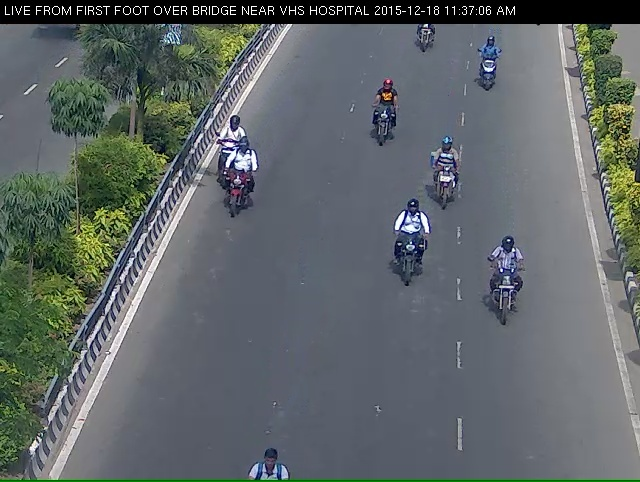Person: (369, 219, 439, 315), (472, 245, 528, 355), (358, 83, 401, 160), (425, 147, 466, 222), (222, 168, 256, 241), (475, 42, 512, 109), (201, 138, 238, 197), (410, 22, 443, 62)
